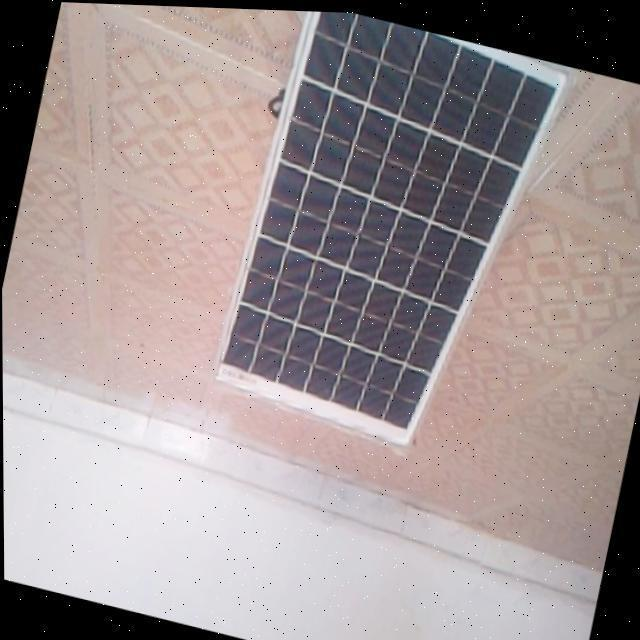Normal Solar Panel: (207, 6, 571, 465)
